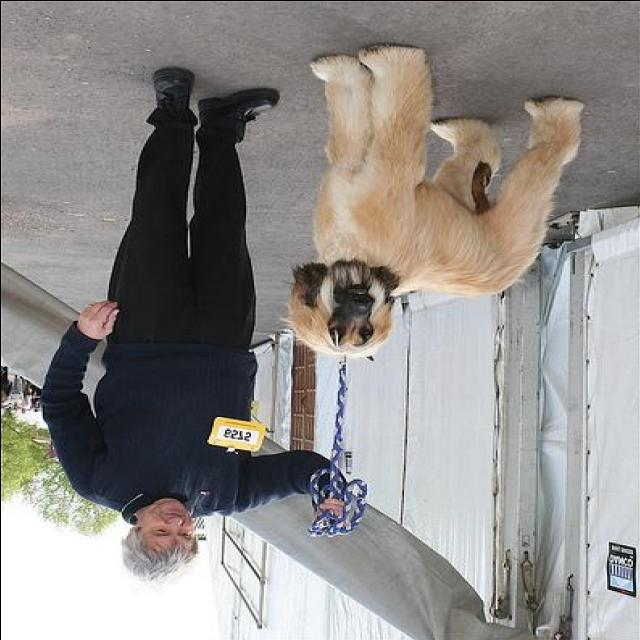afghan_hound: (280, 43, 587, 356)
